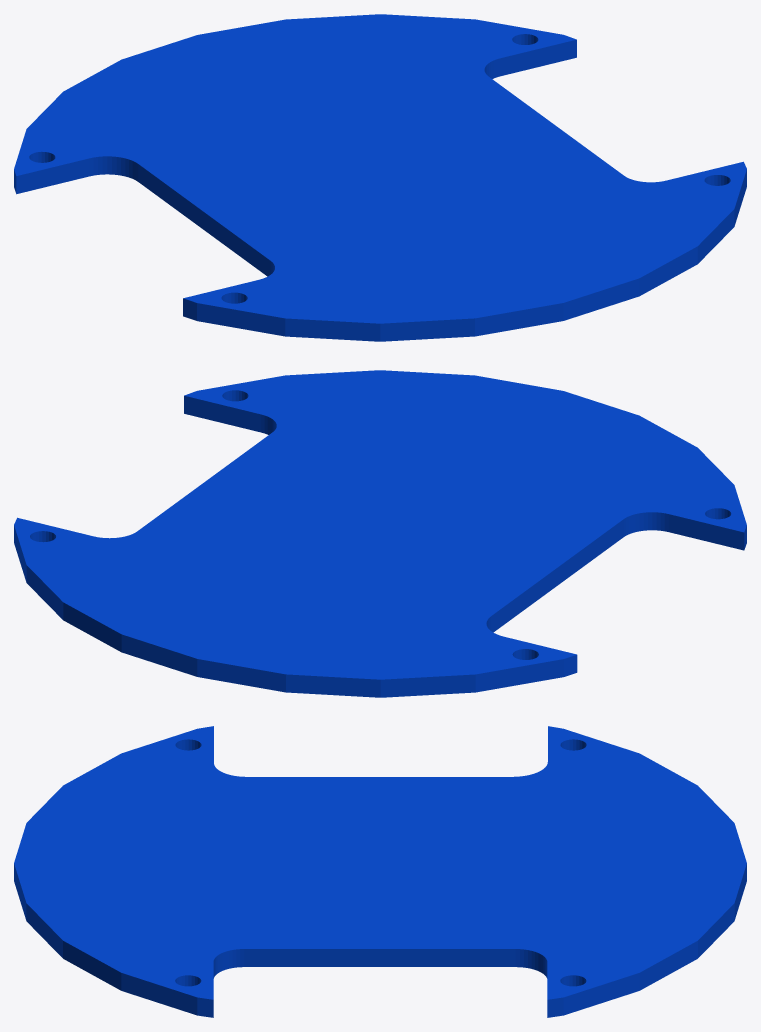
The model's file is bottom-plate.glb.
3 renders of one model, top to bottom at view 1: azimuth 30°, elevation 25°; view 2: azimuth 150°, elevation 25°; view 3: azimuth 270°, elevation 25°, orthographic.
Visible parts, largest first — view 1: Mesh_Mesh_head_geo.001_lambert2SG.001; view 2: Mesh_Mesh_head_geo.001_lambert2SG.001; view 3: Mesh_Mesh_head_geo.001_lambert2SG.001.
Boxes of the visible parts, left/top/right/bottom form: Mesh_Mesh_head_geo.001_lambert2SG.001: left=14, top=14, right=746, bottom=341; Mesh_Mesh_head_geo.001_lambert2SG.001: left=14, top=370, right=746, bottom=697; Mesh_Mesh_head_geo.001_lambert2SG.001: left=14, top=726, right=746, bottom=1017.
Bounding box in the file's own units: 0.0971 × 0.00299 × 0.1098.
